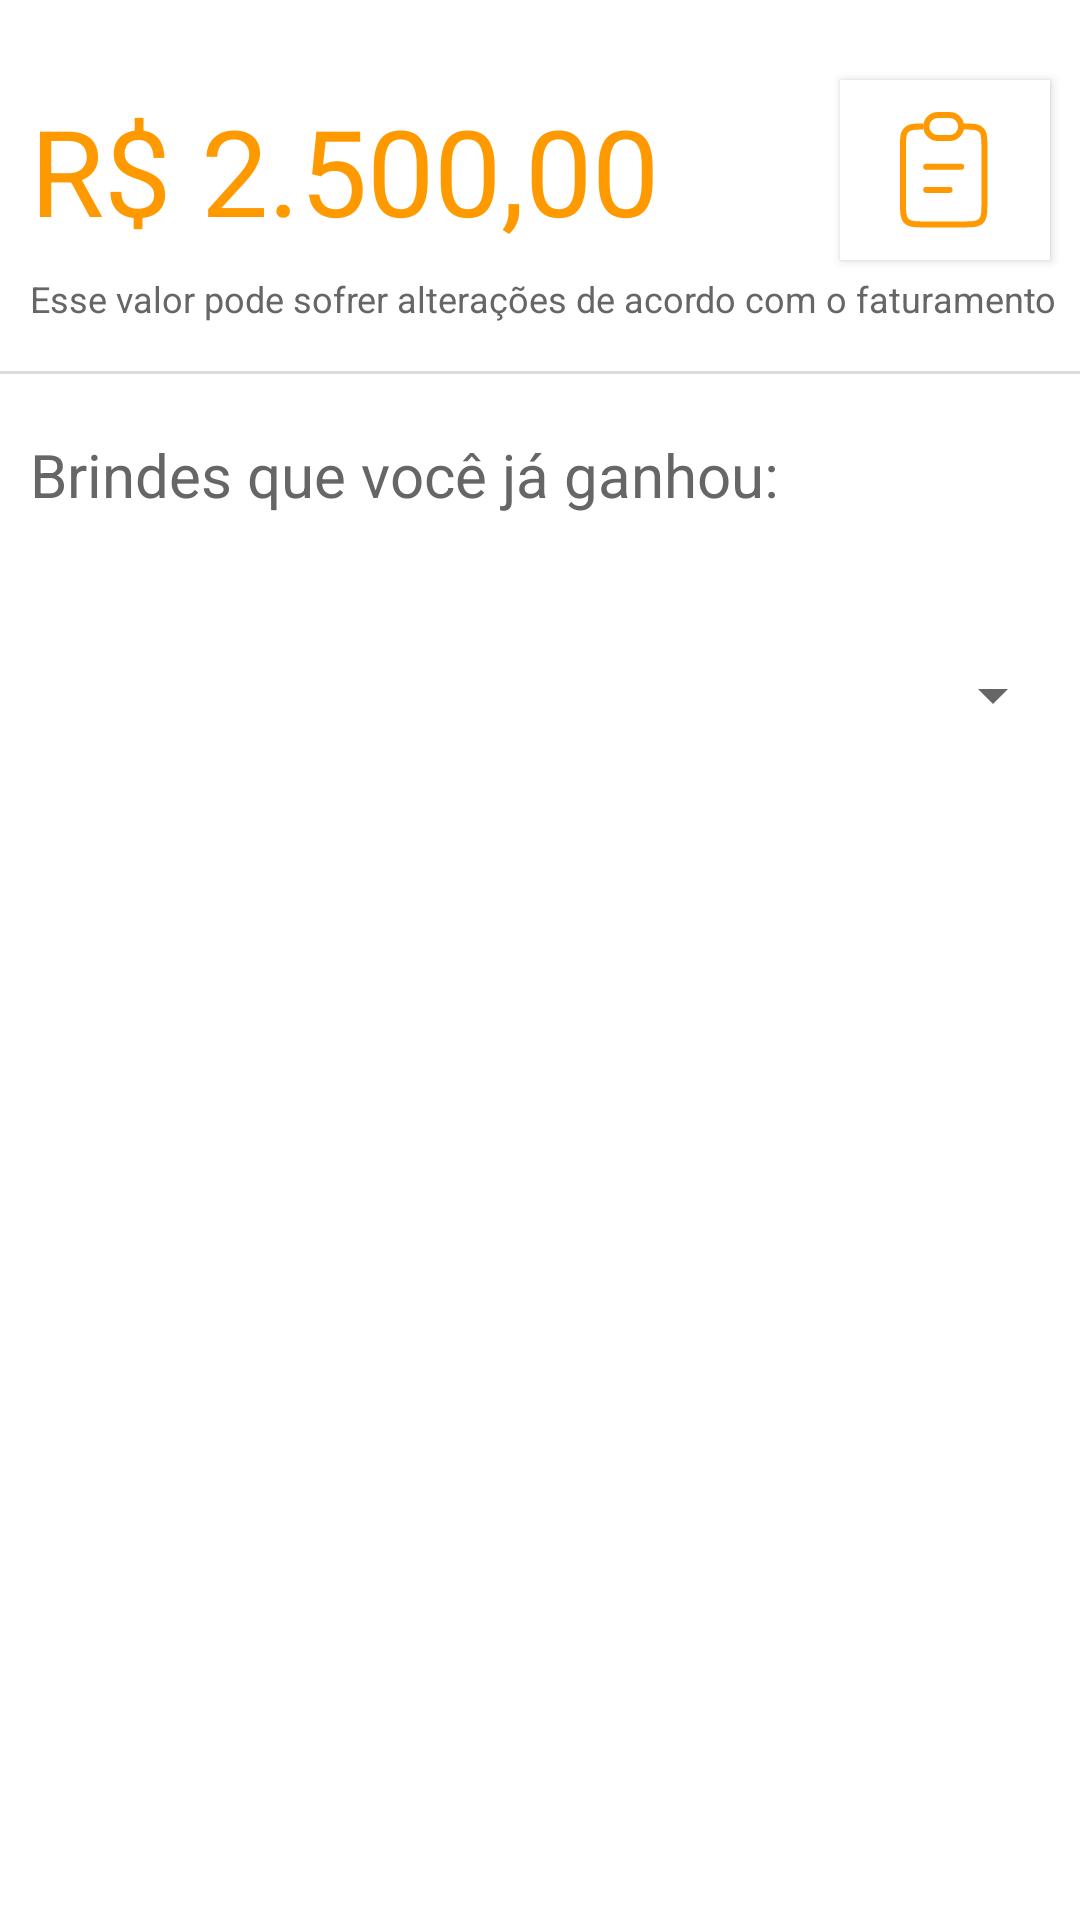

Where to tap for icons on this 1080px x 1920px app screen, as (x=x, y=y):
extato: (x=944, y=170)
